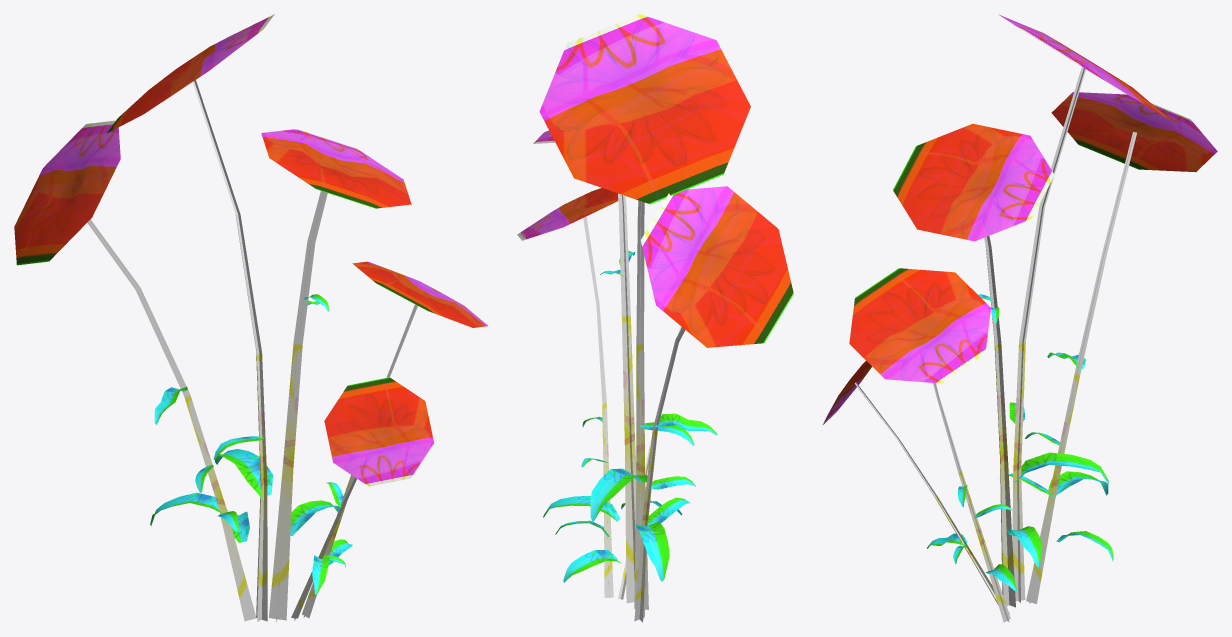
File: DaisiesLOD0.obj
3 views of the same model, side by side, from view 1: azimuth 30°, elevation 25°; view 2: azimuth 150°, elevation 25°; view 3: azimuth 270°, elevation 25° (orthographic). The views are drawn at different scales.
Visible parts, largest first — view 1: Daisy_Daisy_Blossom_0.001; view 2: Daisy_Daisy_Blossom_0.001; view 3: Daisy_Daisy_Blossom_0.001.
Part boxes in pixels (x1,y1,x2,y2): Daisy_Daisy_Blossom_0.001: [14, 14, 487, 622]; Daisy_Daisy_Blossom_0.001: [517, 14, 793, 622]; Daisy_Daisy_Blossom_0.001: [822, 14, 1217, 622].
Size of the model in its own units: 3.56 by 5.85 by 3.62.
